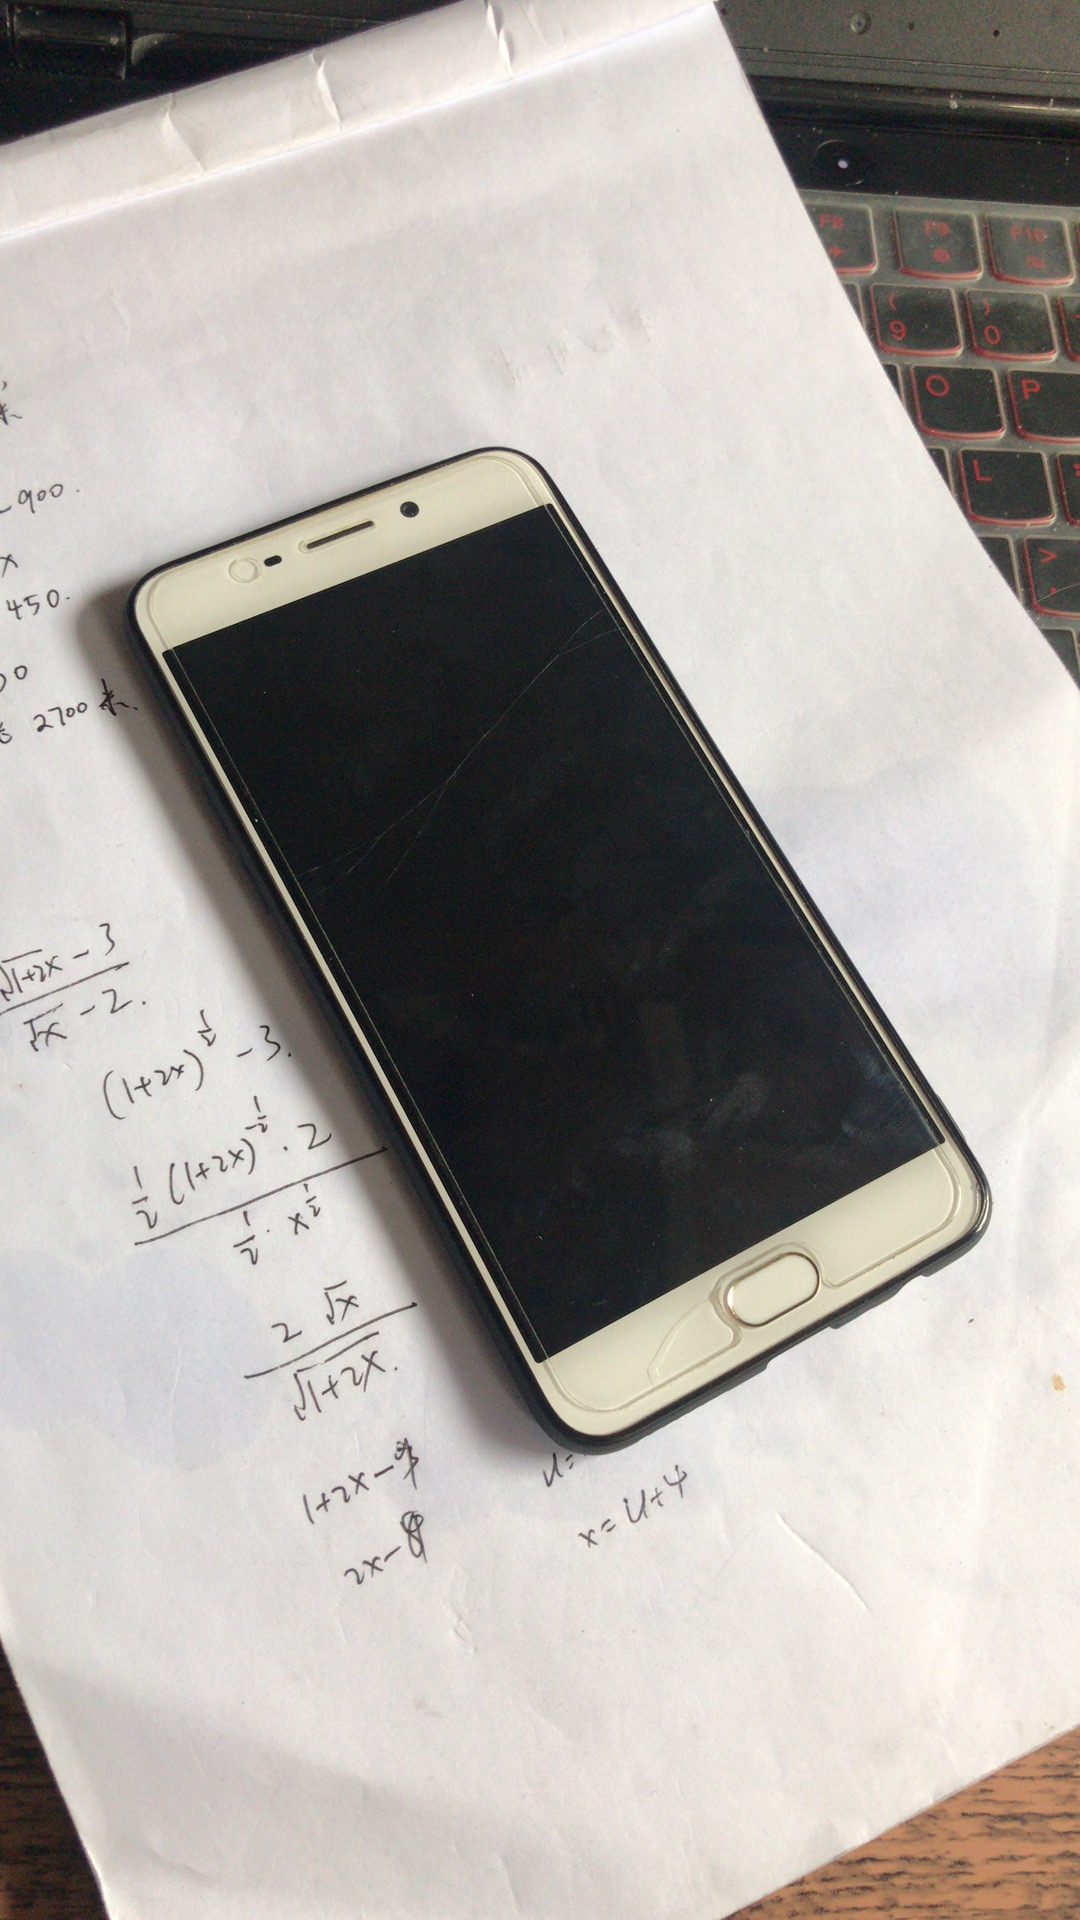phone: (108, 425, 1025, 1470)
